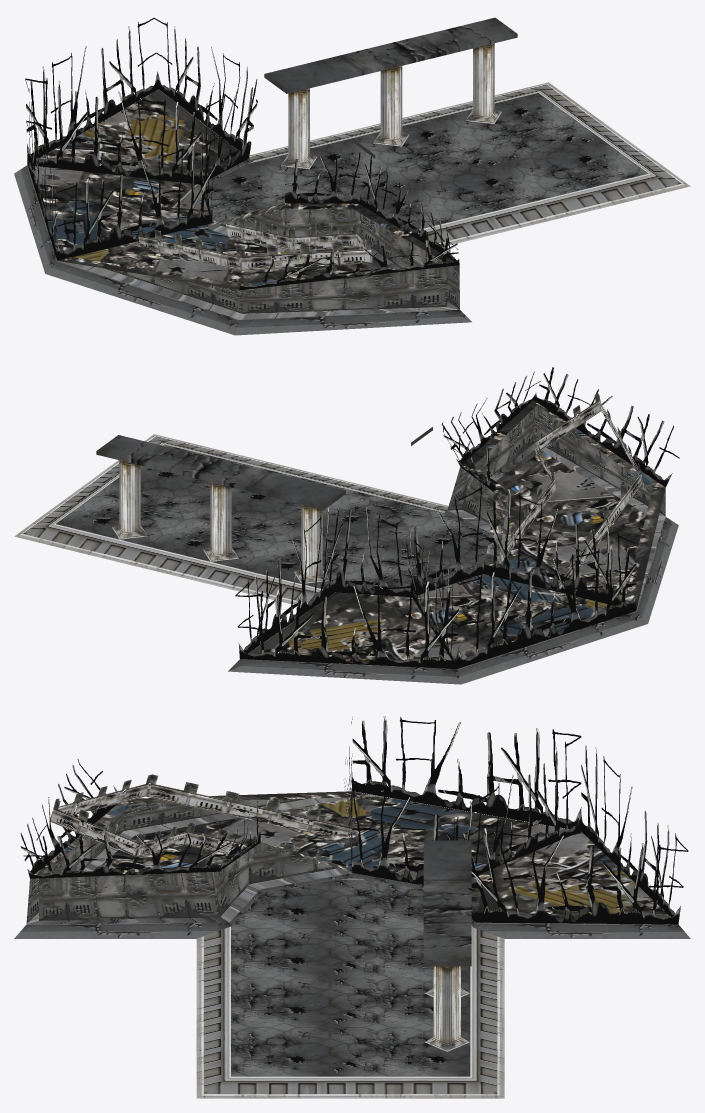
File: s_quetragon_dam_hdtex.glb
3 renders of one model, top to bottom at view 1: azimuth 30°, elevation 25°; view 2: azimuth 150°, elevation 25°; view 3: azimuth 270°, elevation 25°, orthographic. The views are drawn at different scales.
Visible parts, largest first — view 1: S_Quetragon; view 2: S_Quetragon; view 3: S_Quetragon.
Part boxes in pixels (<box>): S_Quetragon: <box>14,17,690,335</box>; S_Quetragon: <box>14,367,679,684</box>; S_Quetragon: <box>14,716,690,1098</box>.
Bounding box in the file's own units: 37.27 × 6.28 × 35.19.
7 materials, 7 textured.
